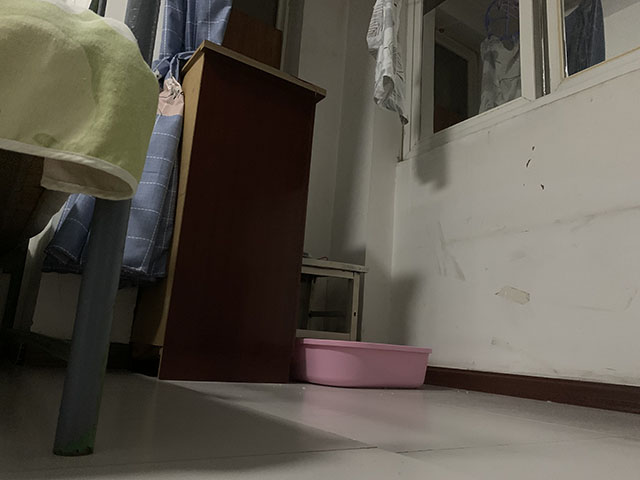cabinet: (125, 38, 328, 384)
stool: (296, 257, 370, 342)
